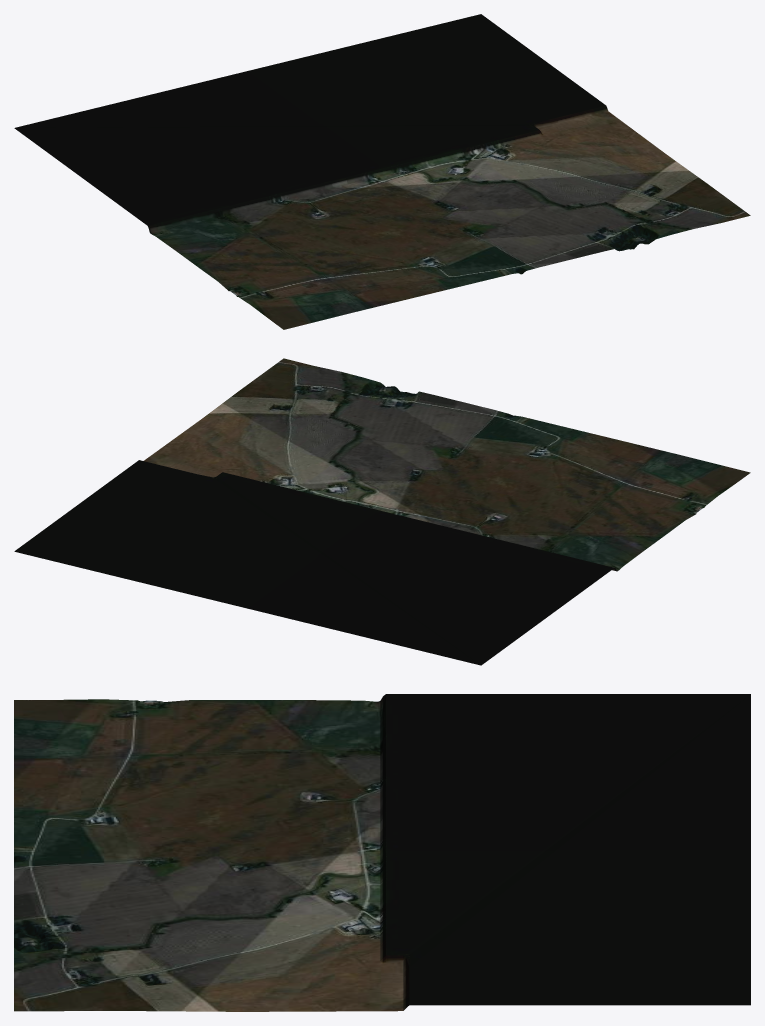
The model's file is map_10_253_433.dae.
3 renders of one model, top to bottom at view 1: azimuth 30°, elevation 25°; view 2: azimuth 150°, elevation 25°; view 3: azimuth 270°, elevation 25°, orthographic. The views are drawn at different scales.
Parts seen in each view (by area): view 1: Ter0; view 2: Ter0; view 3: Ter0.
Boxes of the visible parts, x1=… form: Ter0: x1=14, y1=14, x2=750, y2=329; Ter0: x1=14, y1=358, x2=750, y2=665; Ter0: x1=14, y1=694, x2=750, y2=1011.
Size of the model in its own units: 2044 by 2044 by 40.65.
4 materials, 4 textured.
